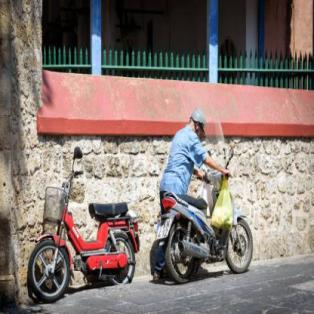Motocicleta: (30, 168, 143, 308), (146, 156, 260, 283)
